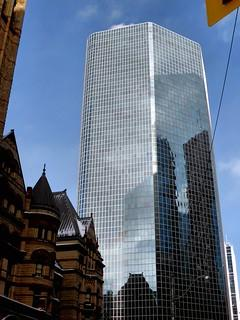building: (70, 19, 234, 320)
